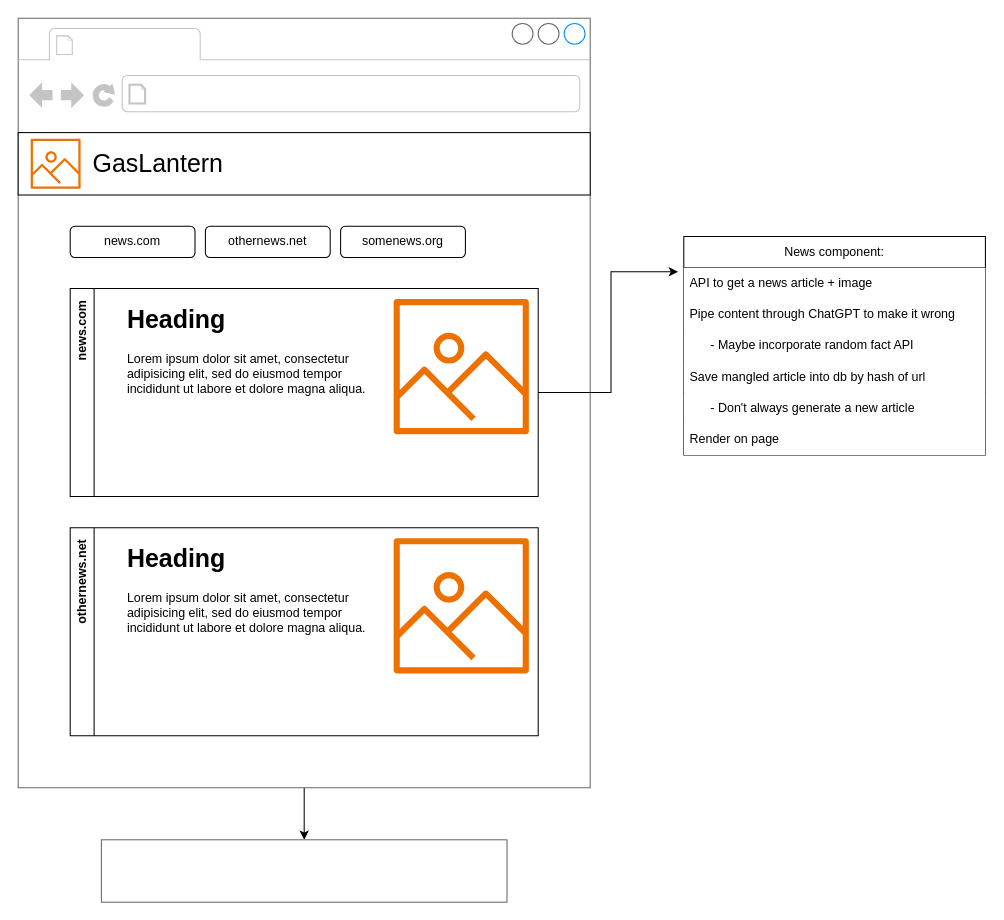
The diagram is 1004 pixels wide and 920 high, and some of its shapes have lost their labels. Here are the shapes that lost their labels. From the top down, the centre of each, then its label:
the point at 137,44: Page 1
the point at 282,94: https://gaslantern.com
the point at 303,870: Infinite scroll, fetches and/or generates more news articles
